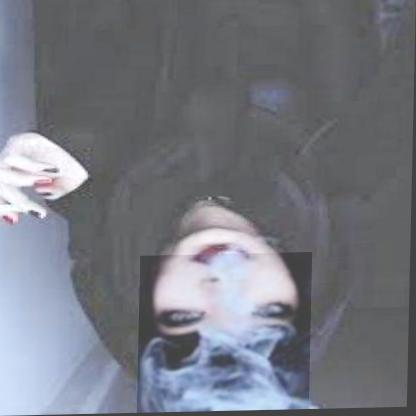smoke: (139, 253, 313, 413)
